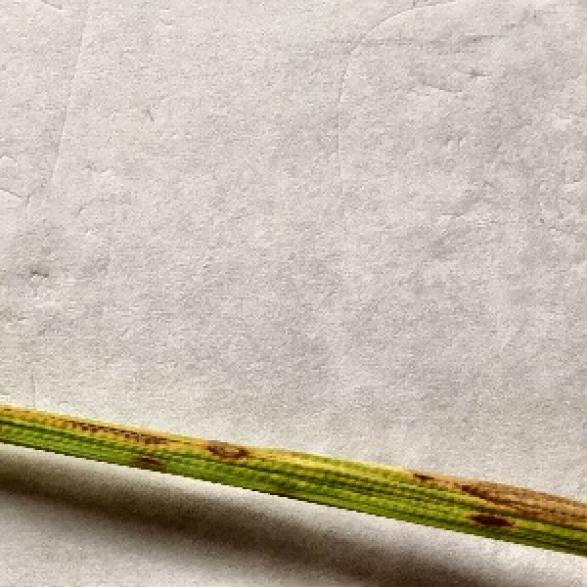Leaf_smut: (53, 411, 266, 485), (403, 470, 585, 534)
